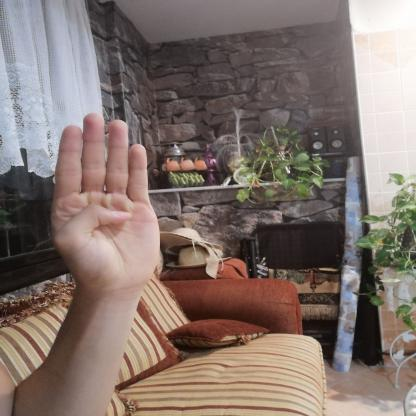KAAF: (27, 102, 190, 307)
